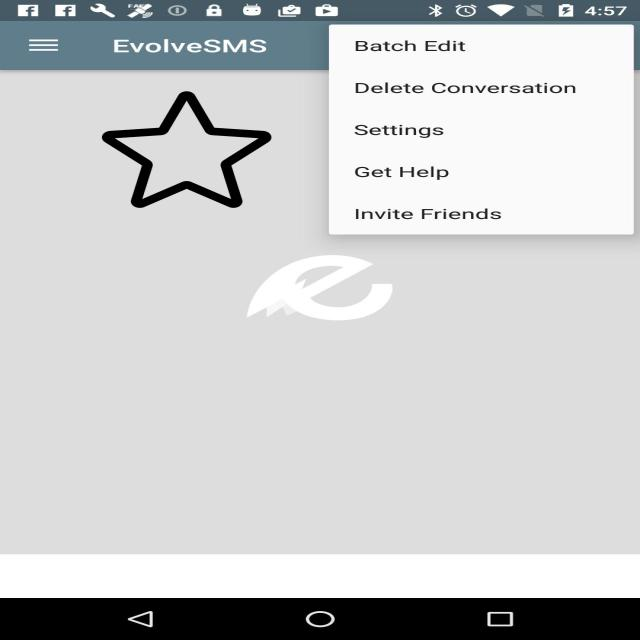forced continuity: (102, 89, 271, 210)
